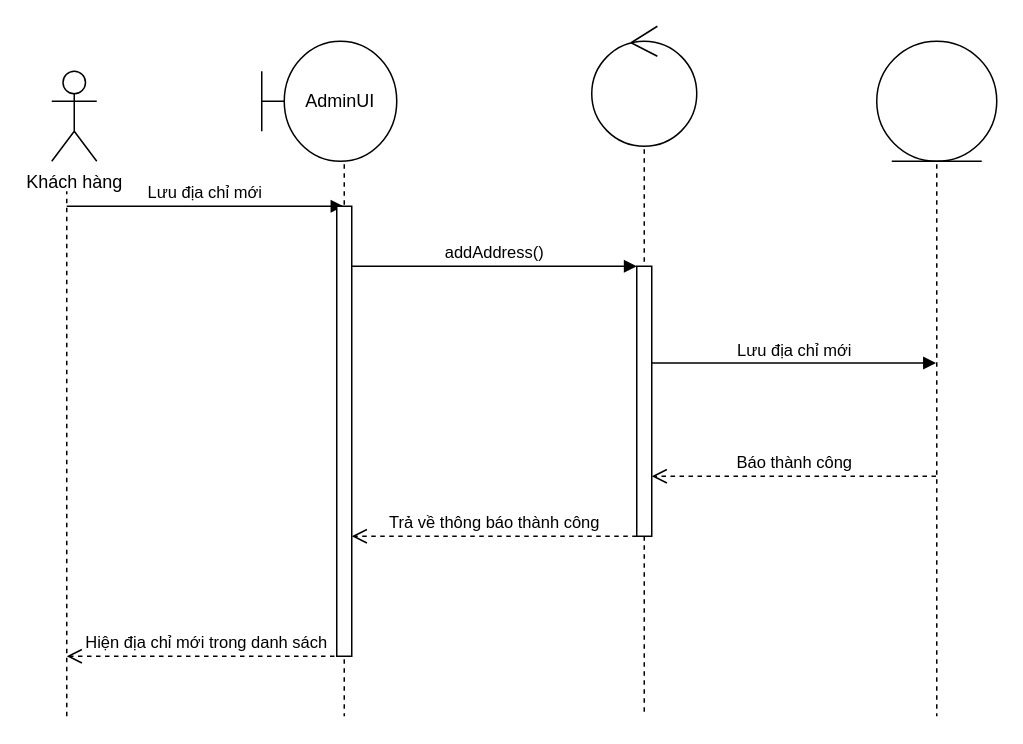
The diagram is 1023 pixels wide and 744 high, and some of its shapes have lost their labels. Here are the shapes that lost their labels. From the top down, the box of each, then its label:
(590, 25, 697, 146): Admin Controller
(875, 40, 997, 161): Database
